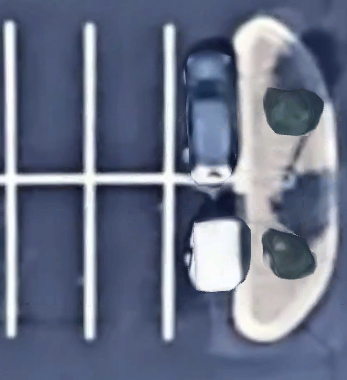Occupied: (170, 176, 241, 338), (170, 23, 240, 176)
Vacant: (8, 180, 90, 339), (8, 23, 89, 179), (88, 22, 169, 178), (90, 179, 168, 338)
